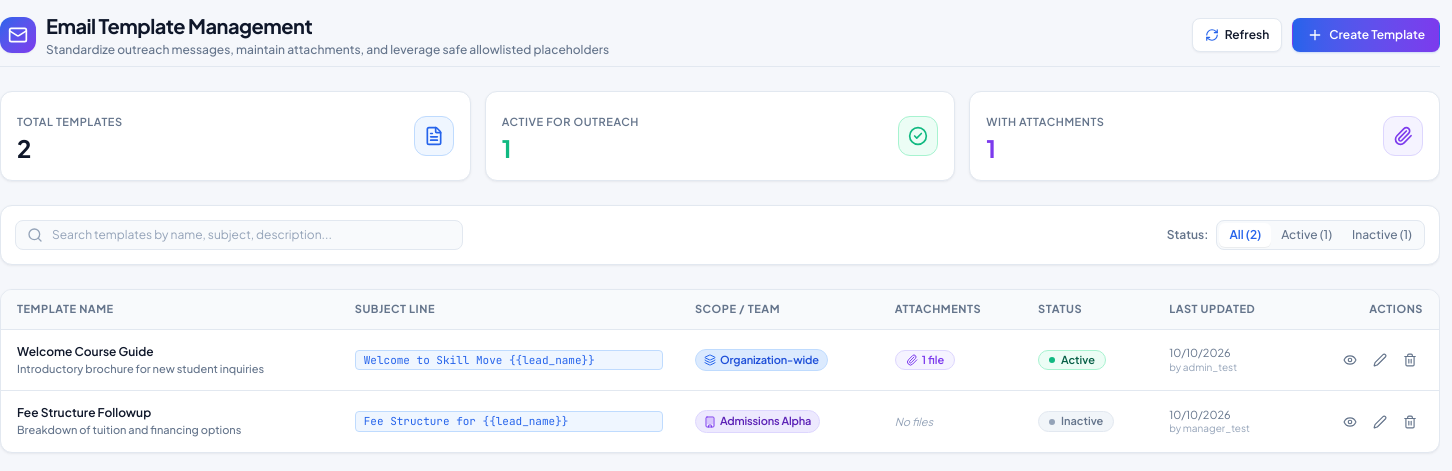
Test: Skill Move Sales CRM — Email Template Management Interface › filters templates by search query
This screenshot has width=1452, height=471.
Check: the text "Welcome Course Guide" is shown, box [17,344,154,359]
Step 1. Type "Tuition" into the field with placeholder "Search templates by name, subject, description..." → (239, 235), box [15,220,463,250]
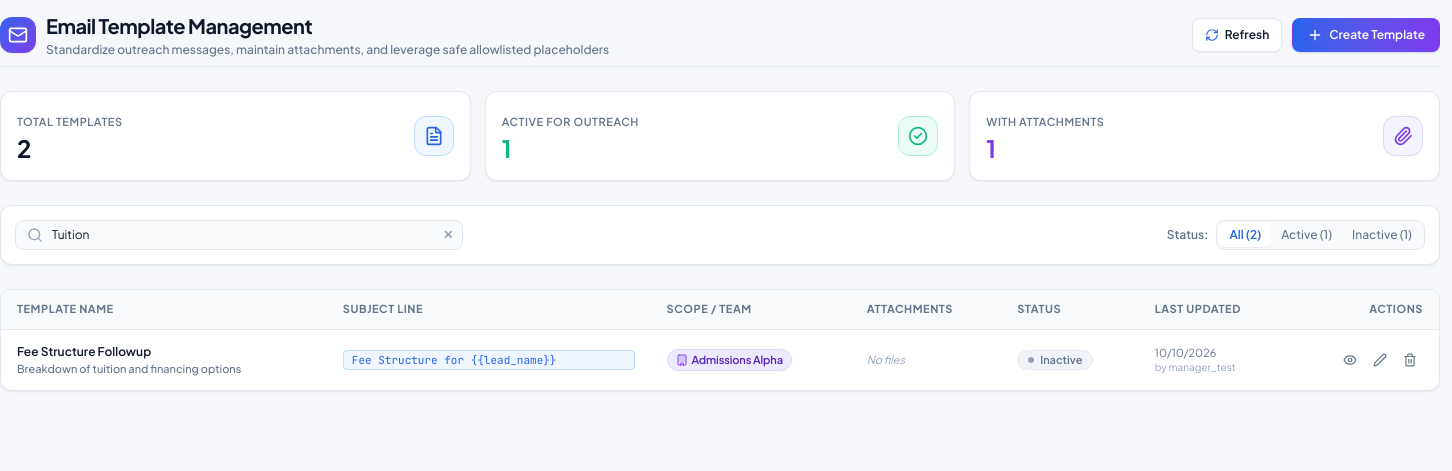
Check: the text "Fee Structure Followup" is shown, box [17,344,151,359]
Check: the text "Welcome Course Guide" is gone
